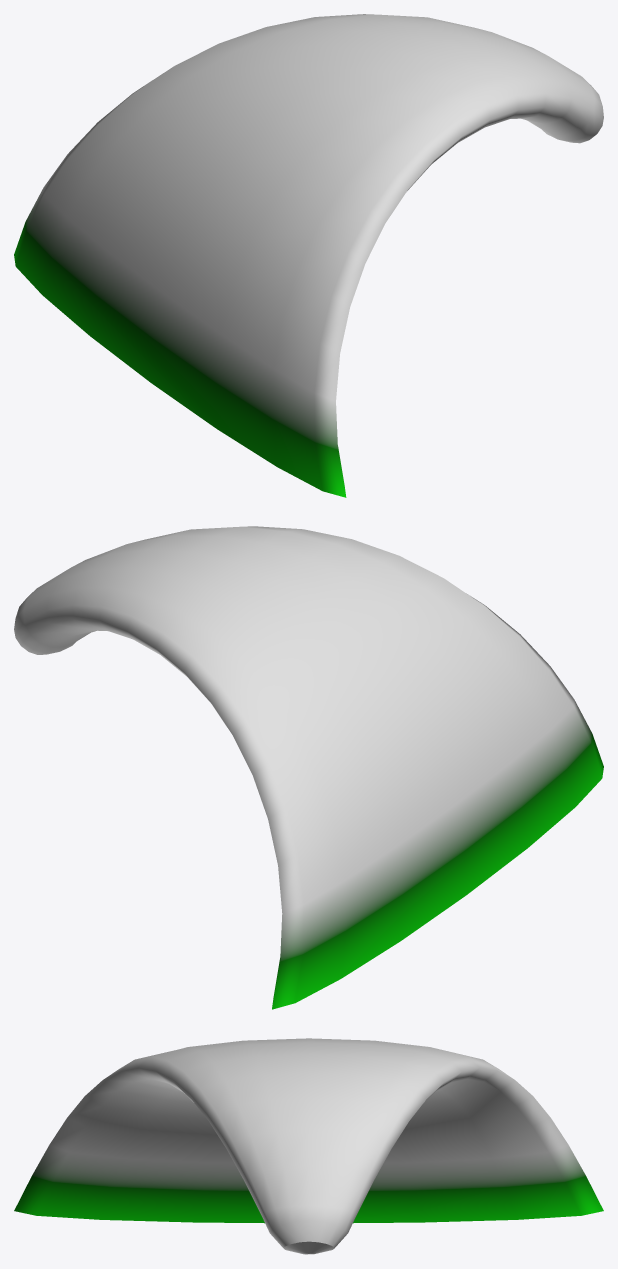
File: TsunamiCylinder.fbx
The picture shows the model from 3 angles, top to bottom: view 1: azimuth 30°, elevation 25°; view 2: azimuth 150°, elevation 25°; view 3: azimuth 270°, elevation 25°; orthographic projection. The views are drawn at different scales.
Visible parts, largest first — view 1: TsunamiCylinder; view 2: TsunamiCylinder; view 3: TsunamiCylinder.
Part boxes in pixels (x1,y1,x2,y2): TsunamiCylinder: (14, 14, 603, 497); TsunamiCylinder: (14, 526, 603, 1009); TsunamiCylinder: (14, 1038, 603, 1254).
Size of the model in its own units: 155 by 91.61 by 200.
